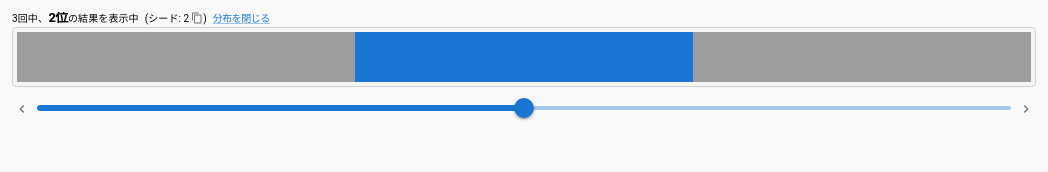
it: TrialResultSelector › toggles distribution chart visibility by link
The width and height of the screenshot is (1048, 172).
Expected: the element with test id "trial-distribution-chart" is shown, [12,27,1036,87]
Click the button "分布を閉じる".
click(241, 18)  # box [213,12,270,25]
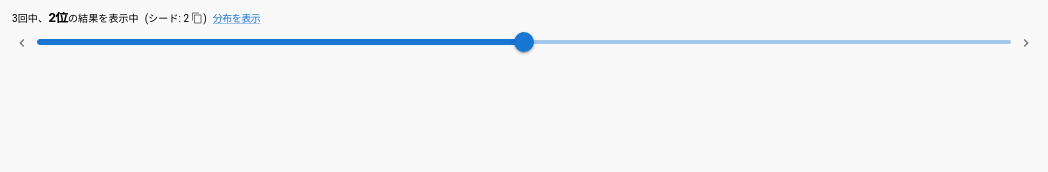
Expected: the element with test id "trial-distribution-chart" is gone
Click the button "分布を表示".
click(237, 18)  # box [213,12,260,25]
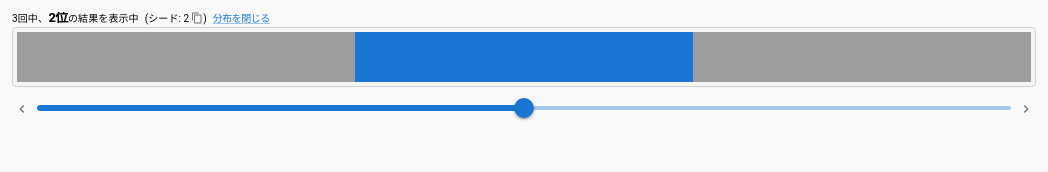
Expected: the element with test id "trial-distribution-chart" is shown, [12,27,1036,87]
